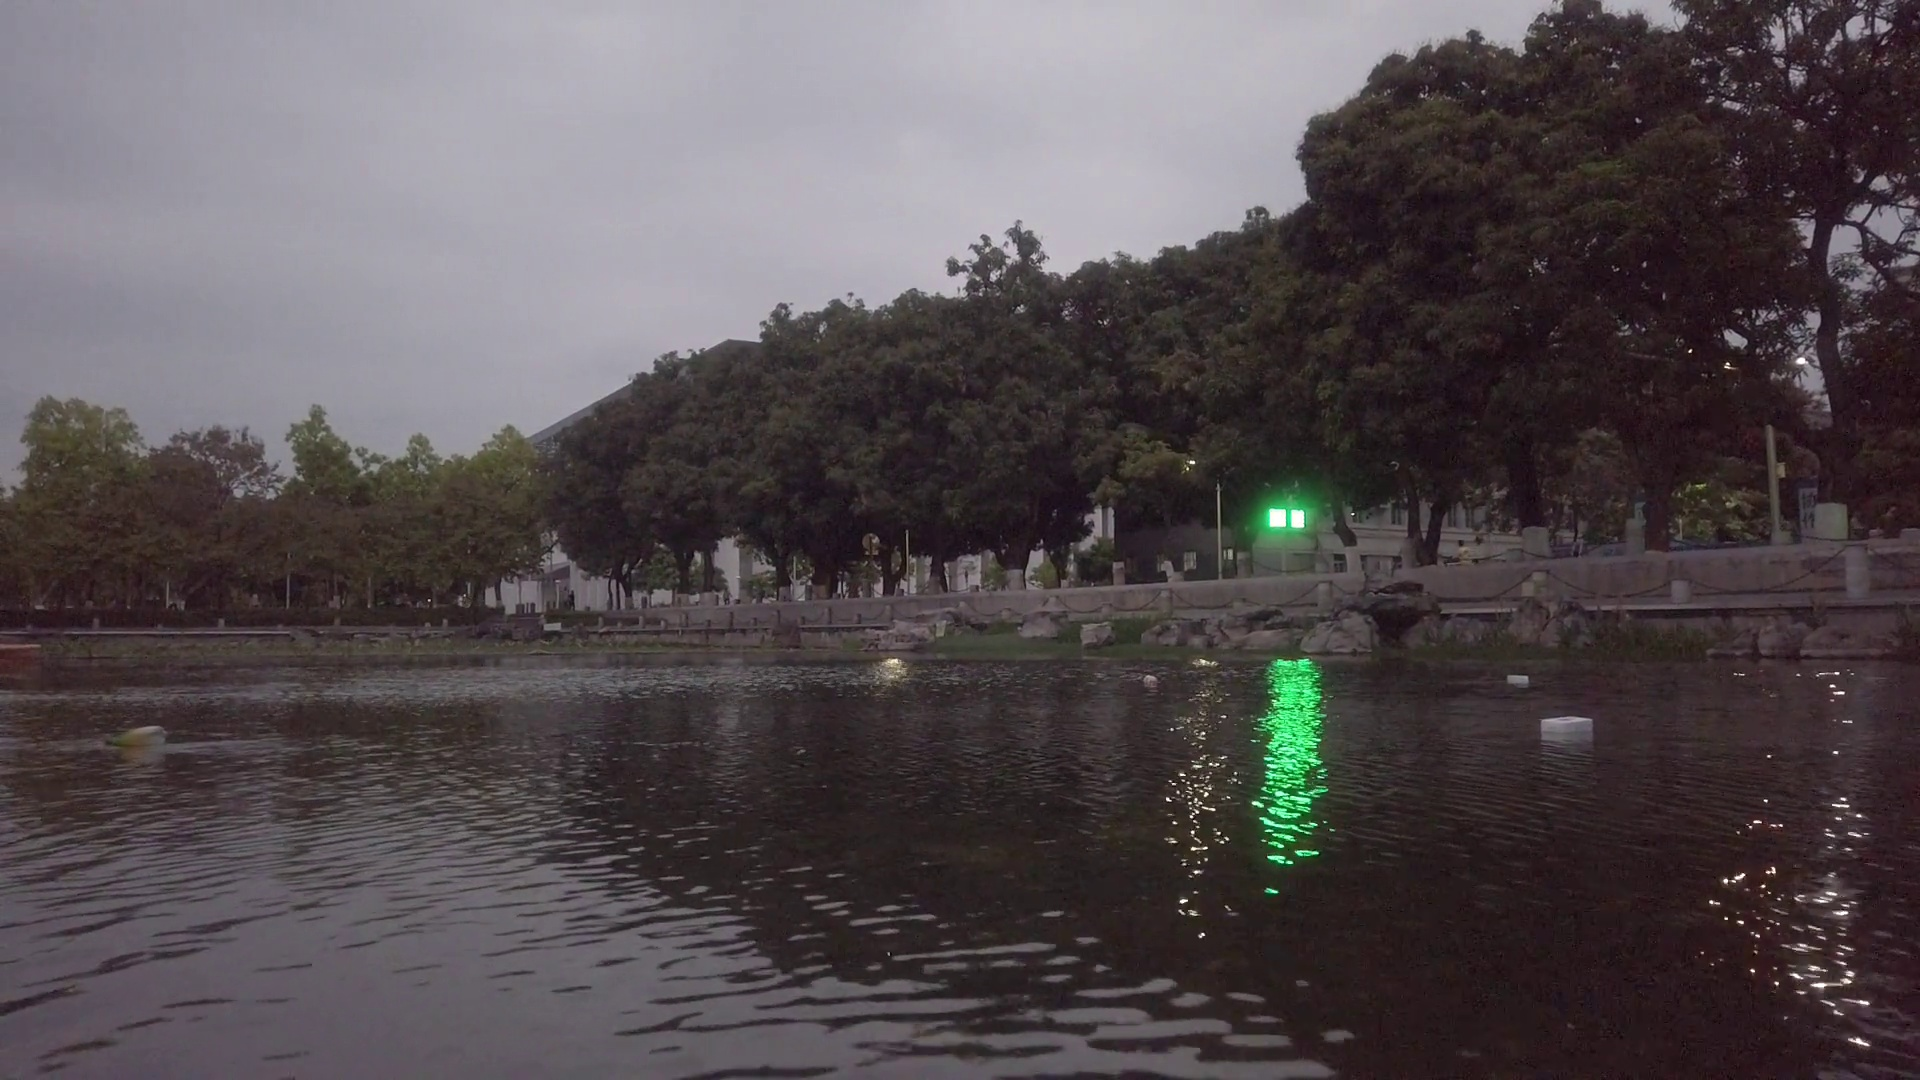bottle: (103, 727, 167, 746), (1135, 670, 1164, 690)
carton: (1538, 716, 1597, 735), (1507, 671, 1530, 687)
